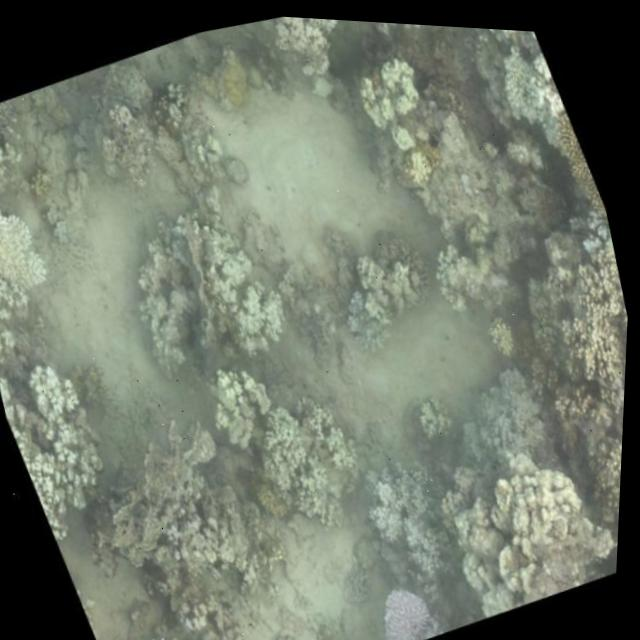Bleached Coral: (446, 21, 581, 158), (187, 213, 298, 365), (238, 393, 364, 520), (0, 121, 67, 319), (416, 228, 499, 323), (261, 12, 356, 82), (609, 343, 629, 510)
